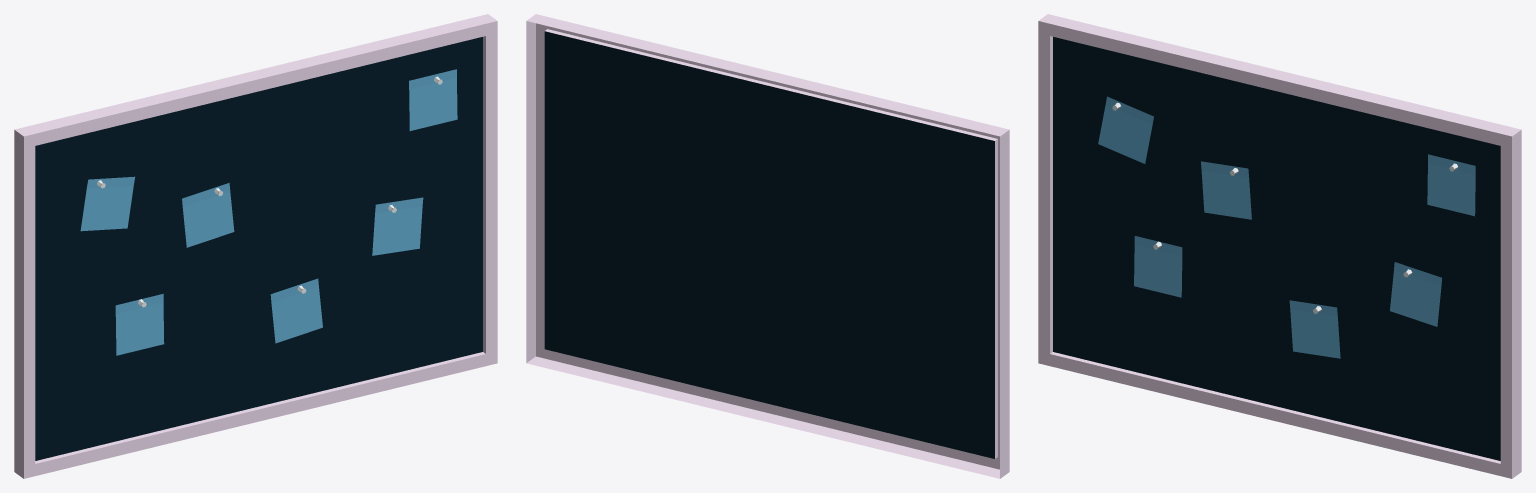
The model's file is Wall_corkboard_with_post_it_notes.fbx.
The picture shows the model from 3 angles, left to right: view 1: azimuth 30°, elevation 25°; view 2: azimuth 150°, elevation 25°; view 3: azimuth 330°, elevation 25°; orthographic projection.
Parts seen in each view (by area): view 1: Wall_corkboard_with_post_it_notes; view 2: Wall_corkboard_with_post_it_notes; view 3: Wall_corkboard_with_post_it_notes.
Boxes of the visible parts, x1,y1,x2,y2 form: Wall_corkboard_with_post_it_notes: (14,14,497,478); Wall_corkboard_with_post_it_notes: (526,14,1009,478); Wall_corkboard_with_post_it_notes: (1038,14,1521,478).
Bounding box in the file's own units: 1.53 × 1.05 × 0.0613.
